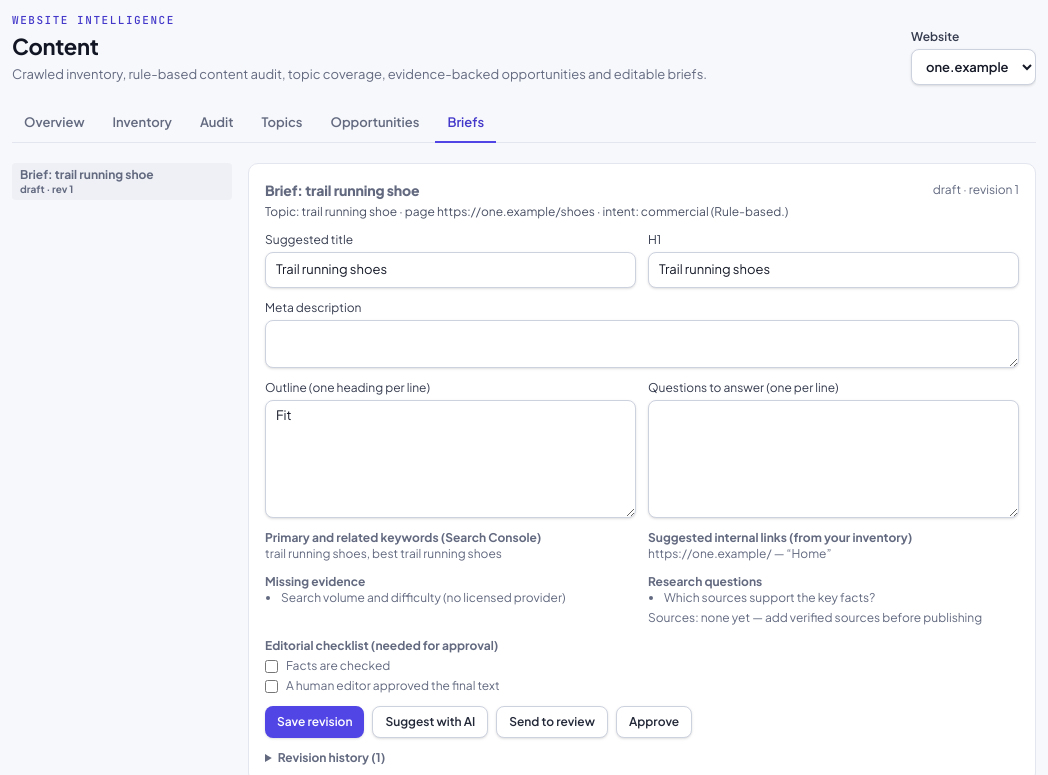
Test: Briefs › edits and saves a revision against the current one; conflicts are reported
Replace the text in the field labelled "Suggested title" with "Choosing trail running shoes" at (450, 270), box [265,252,636,288]
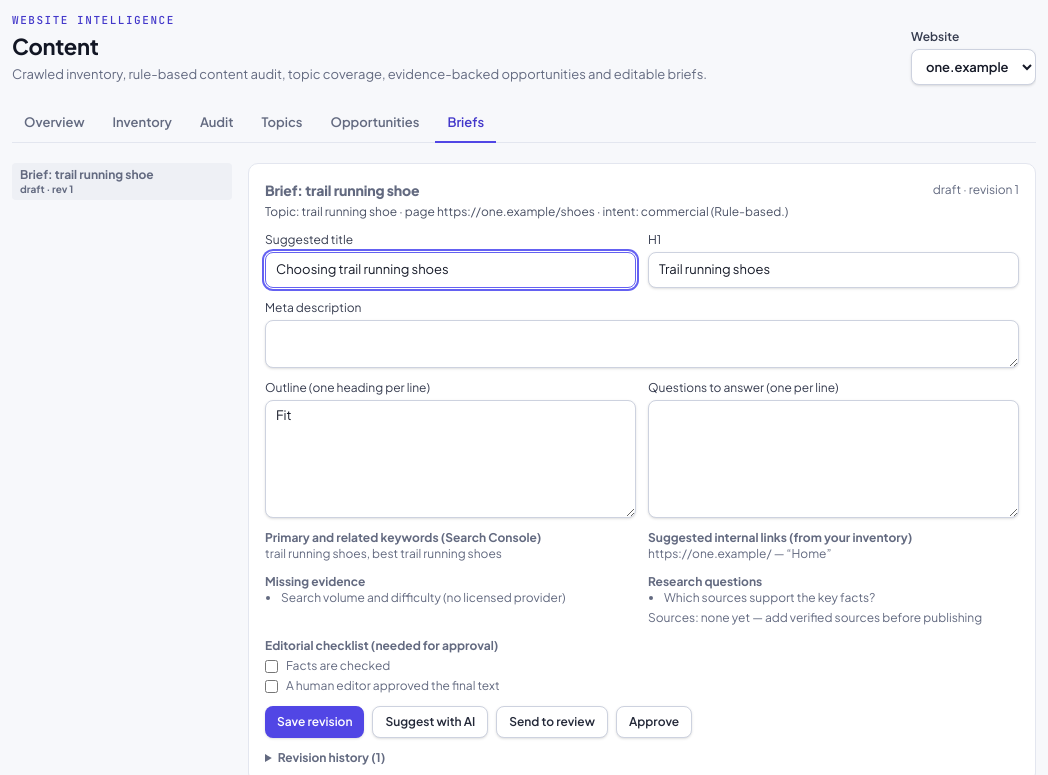
Click the button "Save revision" at (315, 722), box [265,706,364,738]
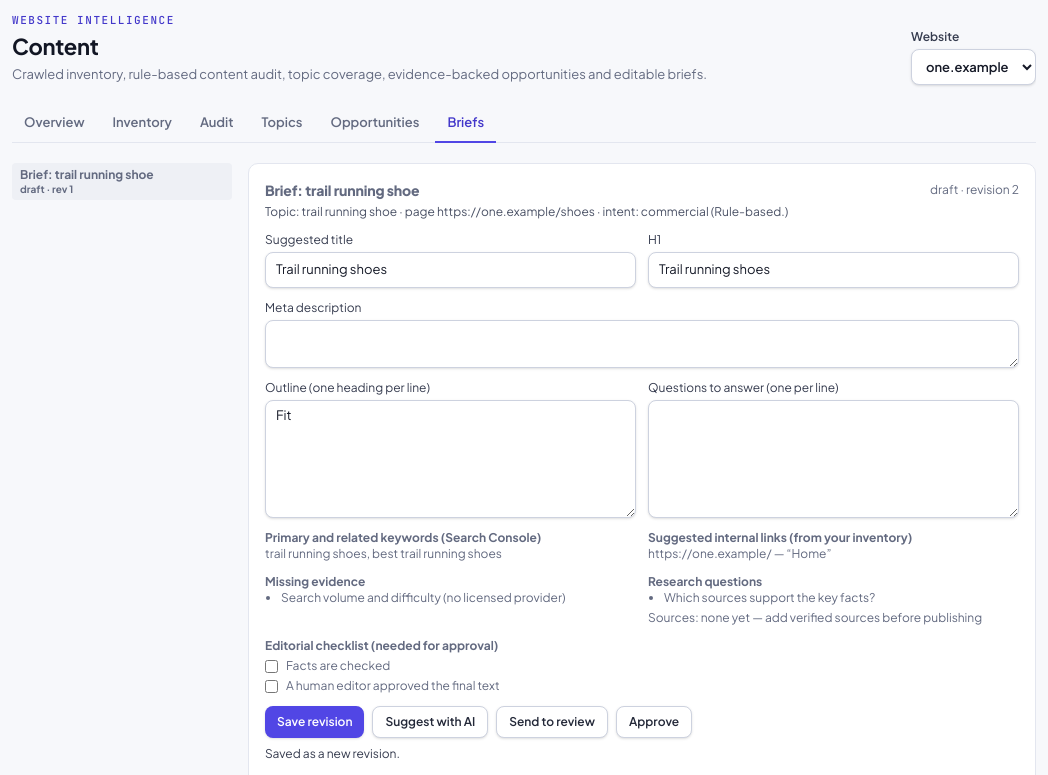
Check: the text "Saved as a new revision." is shown, box [265,746,400,761]
Click the button "Save revision" at (315, 722), box [265,706,364,738]
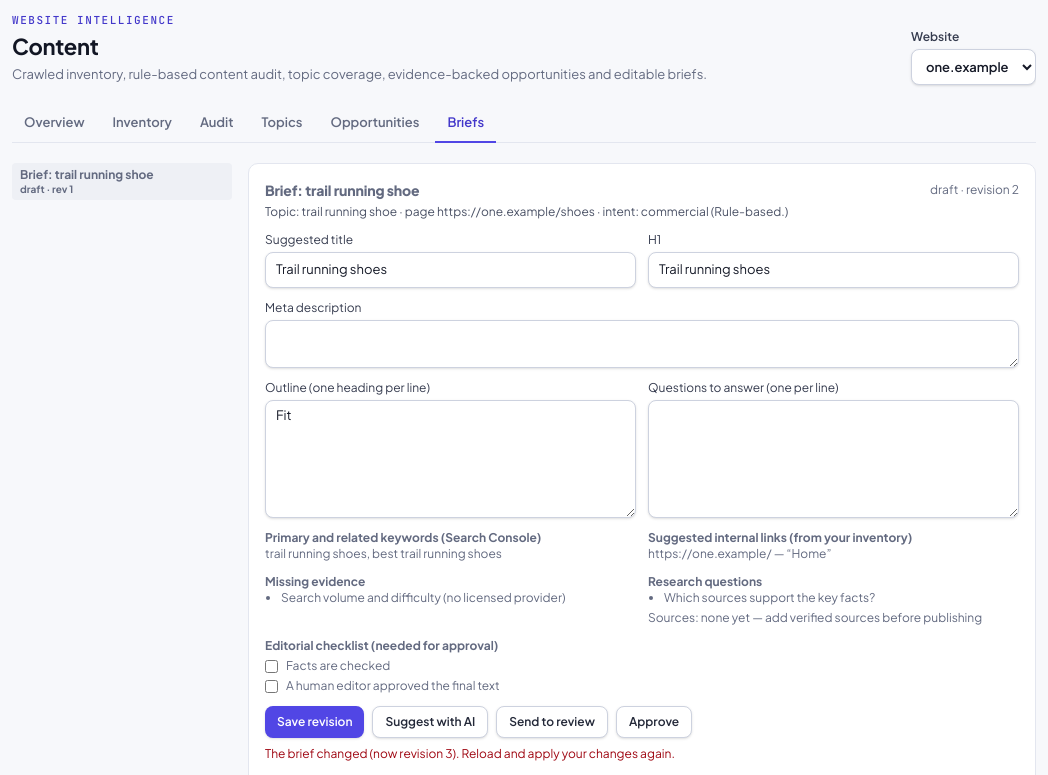
Check: the message shows "Reload and apply your changes again", box [265,746,675,761]
